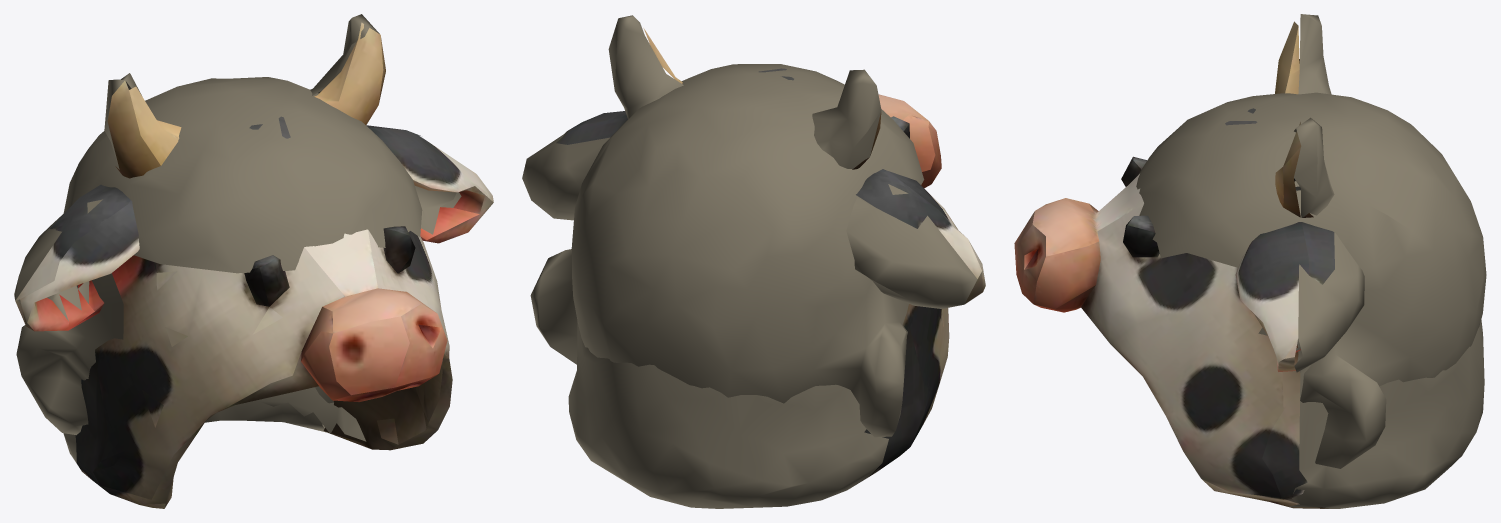
File: cow.glb
3 renders of one model, left to right at view 1: azimuth 30°, elevation 25°; view 2: azimuth 150°, elevation 25°; view 3: azimuth 270°, elevation 25°, orthographic. The views are drawn at different scales.
Visible parts, largest first — view 1: geometry_0, HoodAnatomicalLining; view 2: HoodAnatomicalLining, geometry_0; view 3: geometry_0, HoodAnatomicalLining.
Part boxes in pixels (x1,y1,x2,y2): geometry_0: (14,14,493,508); HoodAnatomicalLining: (16,77,422,441); HoodAnatomicalLining: (530,64,924,437); geometry_0: (522,15,985,508); geometry_0: (1014,14,1484,508); HoodAnatomicalLining: (1136,92,1486,468).
Bounding box in the file's own units: 0.5642 × 0.4867 × 0.5264.
2 materials, 1 textured.
